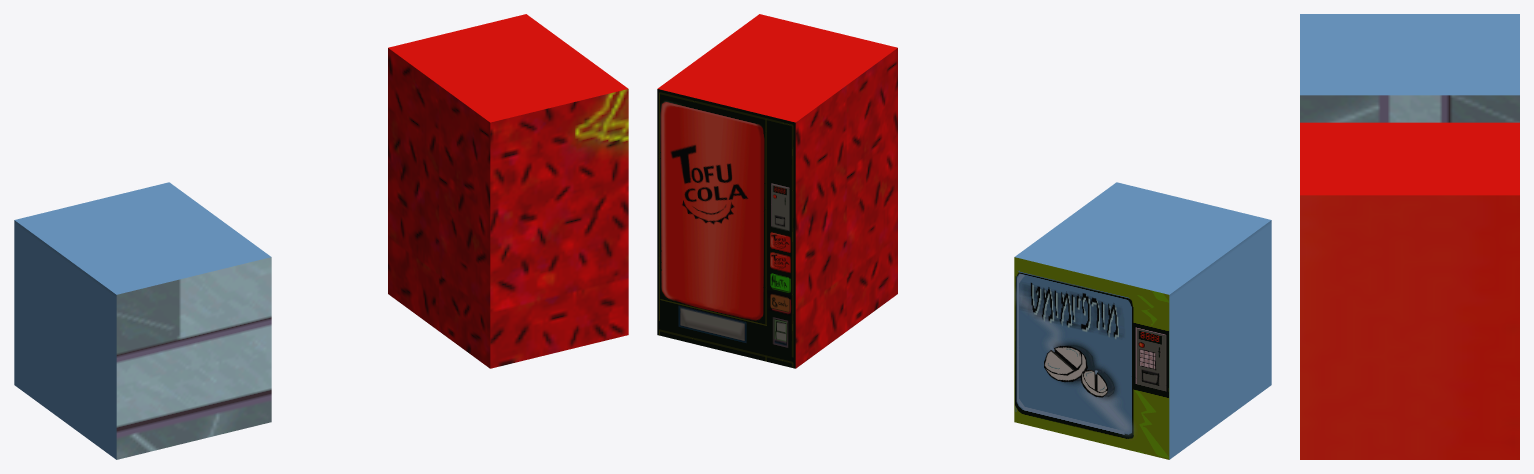
Rendered from Cola.glb.
The picture shows the model from 3 angles, left to right: view 1: azimuth 30°, elevation 25°; view 2: azimuth 150°, elevation 25°; view 3: azimuth 270°, elevation 25°; orthographic projection. The views are drawn at different scales.
Visible parts, largest first — view 1: Cola; view 2: Cola; view 3: Cola.
Boxes of the visible parts, x1=… form: Cola: x1=14, y1=14, x2=628, y2=459; Cola: x1=657, y1=14, x2=1271, y2=459; Cola: x1=1300, y1=14, x2=1519, y2=459.
Bounding box in the file's own units: 185 × 85 × 64.
Materials: 4 (4 with a texture image).
